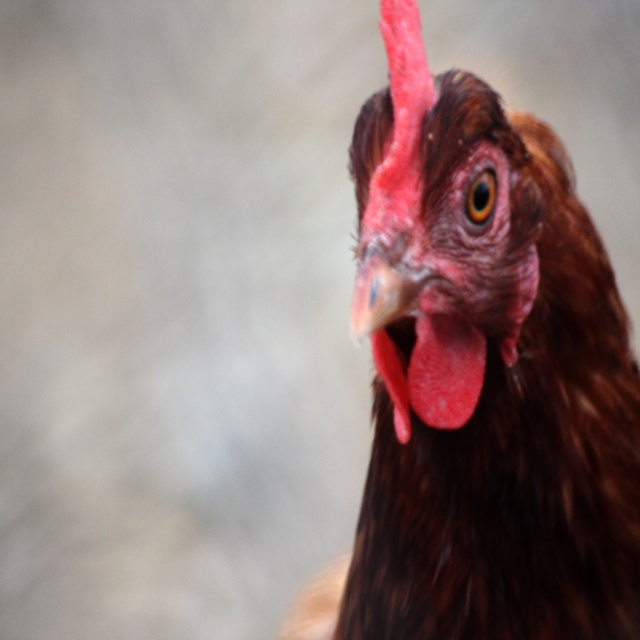Chicken: (319, 67, 639, 639)
